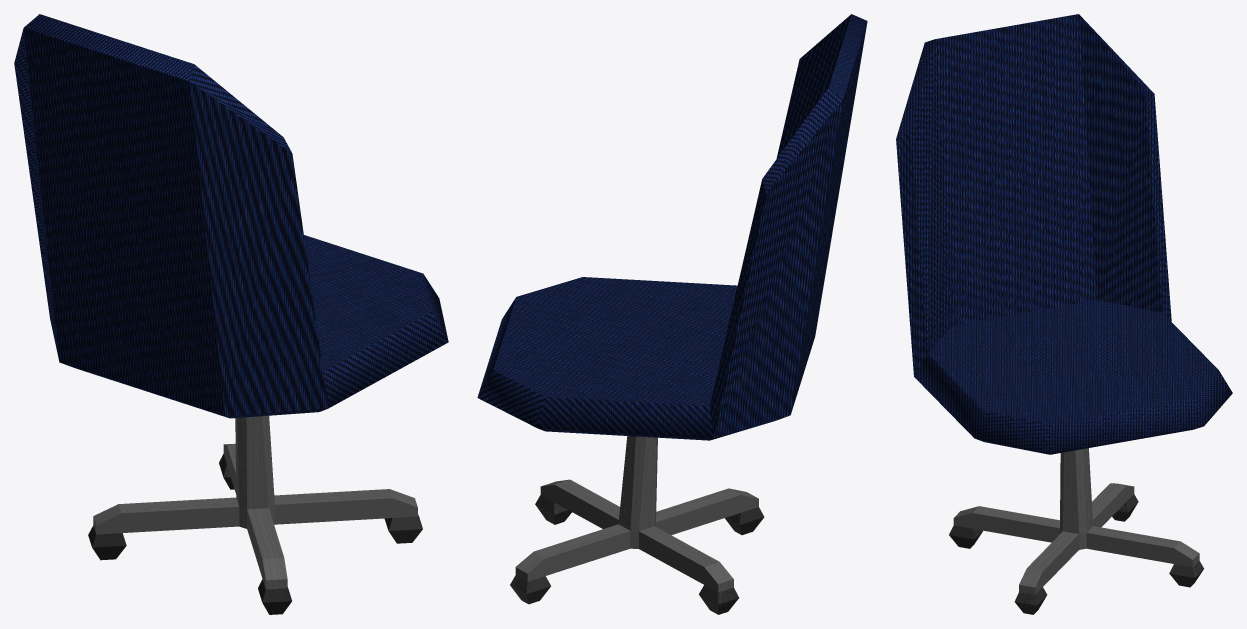
File: officeChair.fbx
3 renders of one model, left to right at view 1: azimuth 30°, elevation 25°; view 2: azimuth 150°, elevation 25°; view 3: azimuth 270°, elevation 25°, orthographic. The views are drawn at different scales.
Parts seen in each view (by area): view 1: Cylinder001; view 2: Cylinder001; view 3: Cylinder001.
Boxes of the visible parts, <box> form: Cylinder001: <box>14,14,448,614</box>; Cylinder001: <box>477,14,867,614</box>; Cylinder001: <box>896,14,1232,614</box>.
Size of the model in its own units: 31.66 by 44.58 by 29.11.
Materials: 3 (3 with a texture image).
